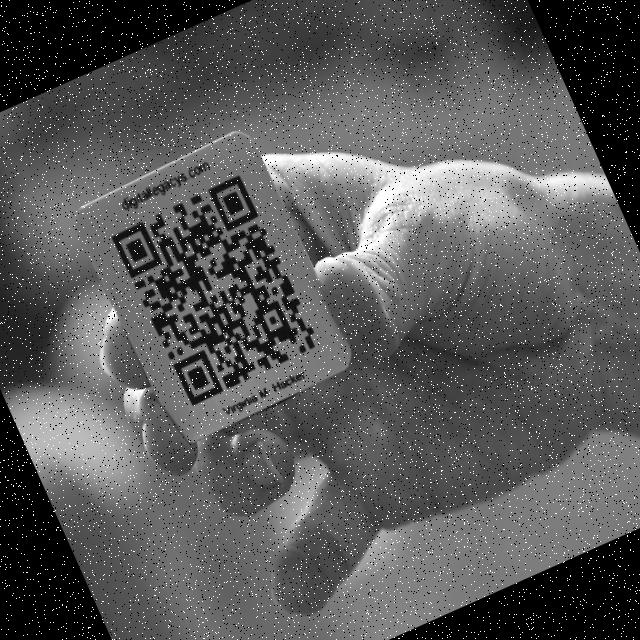QR-codes: (106, 170, 324, 407)
